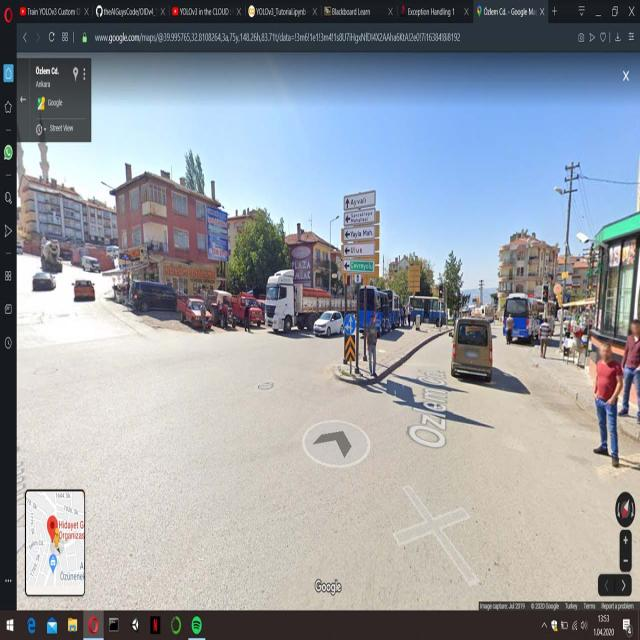ilerisol: (343, 314, 356, 335)
